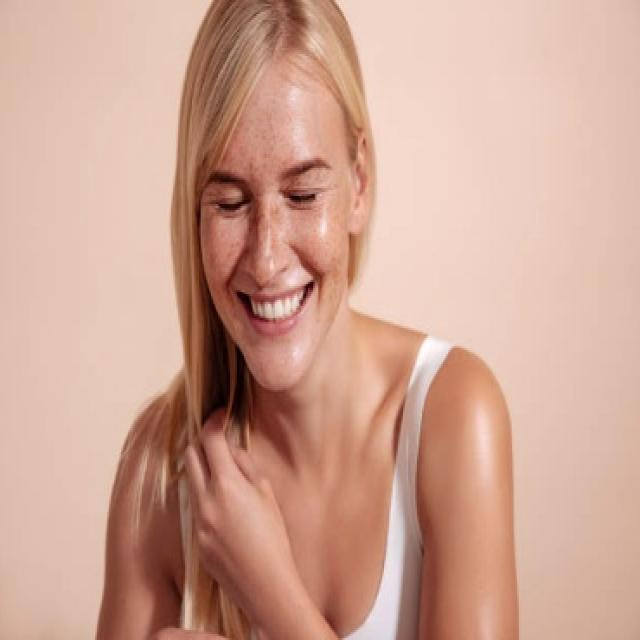adult: (87, 0, 517, 640)
